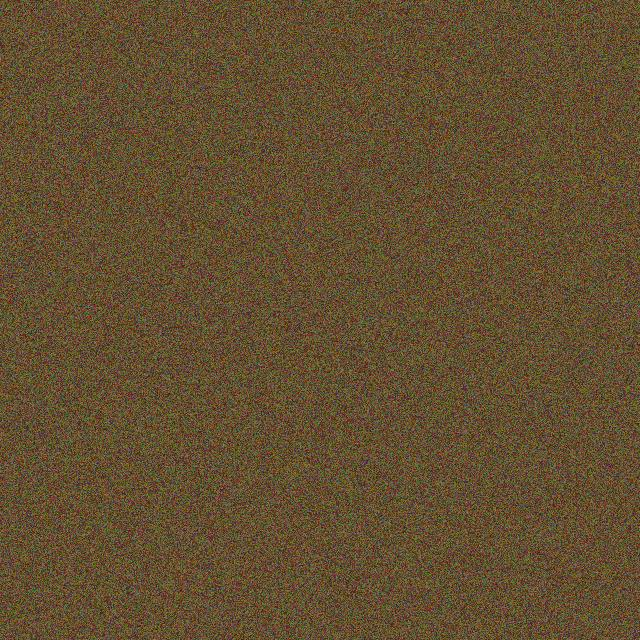ghost_net: (77, 384, 198, 508)
